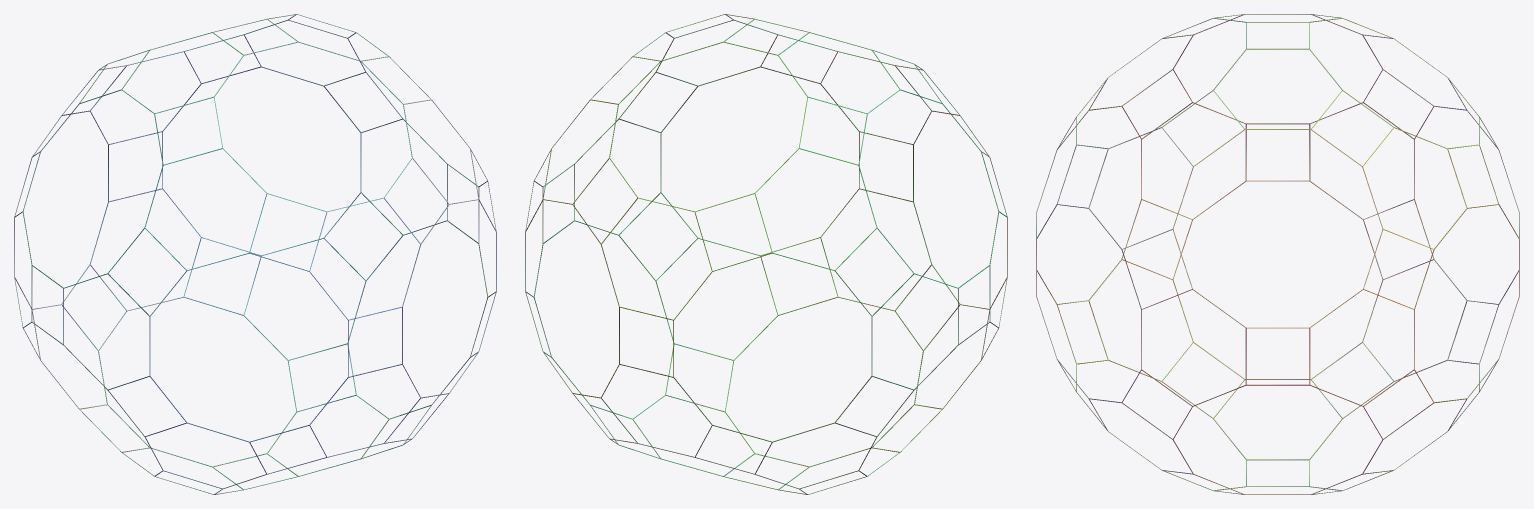
Rendered from zeometry-wireframes-wire-truncated-icosidodecahedron_v1.glb.
3 renders of one model, left to right at view 1: azimuth 30°, elevation 25°; view 2: azimuth 150°, elevation 25°; view 3: azimuth 270°, elevation 25°, orthographic.
Parts seen in each view (by area): view 1: Wire Truncated Icosidodecahedron_v1; view 2: Wire Truncated Icosidodecahedron_v1; view 3: Wire Truncated Icosidodecahedron_v1.
Boxes of the visible parts, x1,y1,x2,y2 form: Wire Truncated Icosidodecahedron_v1: [14, 14, 496, 494]; Wire Truncated Icosidodecahedron_v1: [525, 14, 1007, 494]; Wire Truncated Icosidodecahedron_v1: [1036, 14, 1519, 494].
Bounding box in the file's own units: 0.5 × 0.5 × 0.5.
